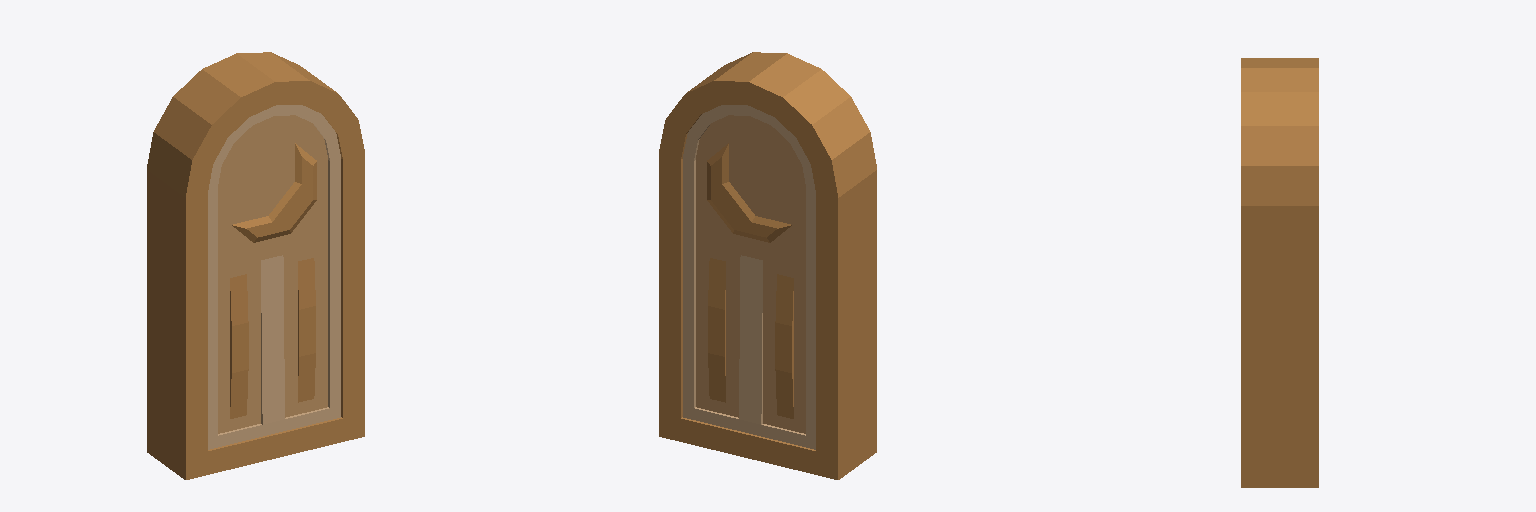
File: Wall_Straight_Door_Moon.obj
3 renders of one model, left to right at view 1: azimuth 30°, elevation 25°; view 2: azimuth 150°, elevation 25°; view 3: azimuth 270°, elevation 25°, orthographic.
Visible parts, largest first — view 1: object1; view 2: object1; view 3: object1.
Boxes of the visible parts, x1=… form: object1: x1=147, y1=52, x2=364, y2=479; object1: x1=659, y1=52, x2=876, y2=479; object1: x1=1241, y1=58, x2=1318, y2=487.
Bounding box in the file's own units: 0.8 × 1.6 × 0.3.